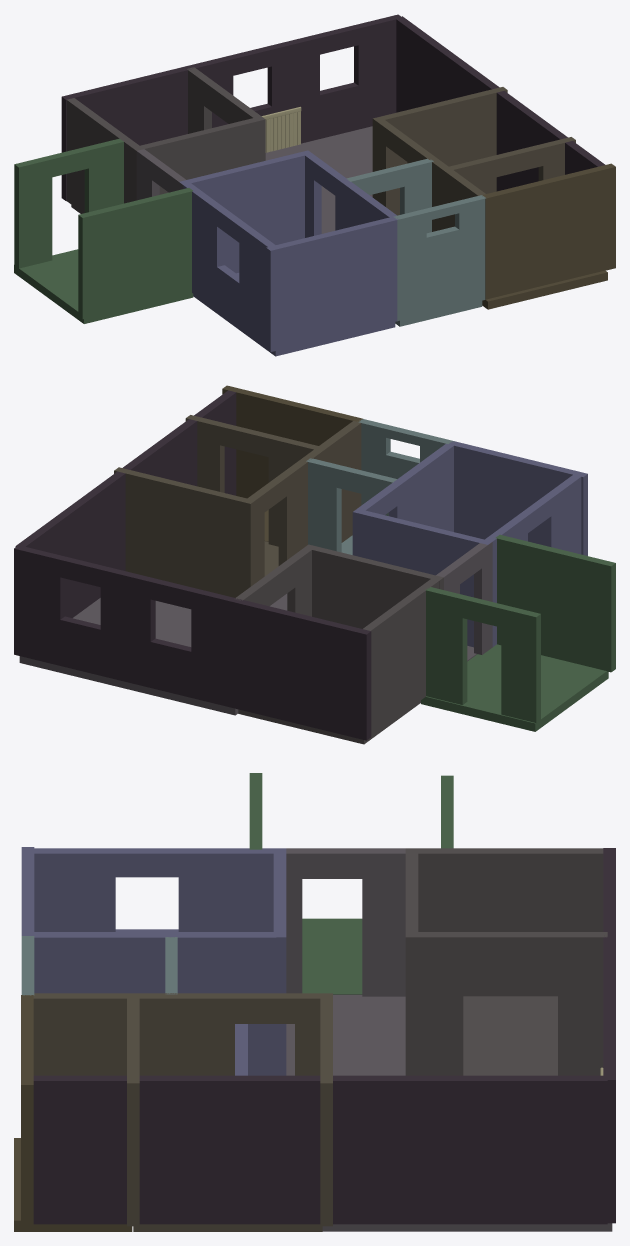
Rendered from casita.fbx.
3 views of the same model, one above another, from view 1: azimuth 30°, elevation 25°; view 2: azimuth 150°, elevation 25°; view 3: azimuth 270°, elevation 25° (orthographic). The views are drawn at different scales.
Parts seen in each view (by area): view 1: polySurface27, pCube41, pCube42, pCube40, pCube25, polySurface28, polySurface29, polySurface30, pCube12, pCube20, pCube15, polySurface2 (+11 smaller); view 2: polySurface27, pCube20, pCube40, pCube25, polySurface30, pCube41, pCube2, pCube15, polySurface4, pCube39, pCube12, pCube42 (+9 smaller); view 3: pCube25, polySurface4, polySurface29, pCube2, polySurface1, polySurface2, polySurface26, pCube6, pCube1, pCube39, polySurface27, pCube15 (+12 smaller).
Boxes of the visible parts, x1=… form: polySurface27: x1=61, y1=14, x2=402, y2=200; pCube41: x1=266, y1=216, x2=398, y2=352; pCube42: x1=482, y1=163, x2=615, y2=299; pCube40: x1=78, y1=188, x2=192, y2=319; pCube25: x1=396, y1=16, x2=605, y2=191; polySurface28: x1=393, y1=195, x2=485, y2=321; polySurface29: x1=183, y1=183, x2=275, y2=346; polySurface30: x1=14, y1=138, x2=123, y2=268; pCube12: x1=179, y1=150, x2=311, y2=273; pCube20: x1=372, y1=87, x2=507, y2=215; pCube15: x1=132, y1=116, x2=265, y2=201; polySurface2: x1=305, y1=153, x2=396, y2=237; polySurface27: x1=14, y1=545, x2=371, y2=740; pCube20: x1=114, y1=467, x2=255, y2=597; pCube40: x1=495, y1=534, x2=615, y2=672; pCube25: x1=15, y1=390, x2=236, y2=618; polySurface30: x1=425, y1=587, x2=540, y2=723; pCube41: x1=448, y1=441, x2=587, y2=555; pCube2: x1=363, y1=579, x2=438, y2=736; pCube15: x1=304, y1=544, x2=443, y2=628; polySurface4: x1=247, y1=421, x2=361, y2=582; pCube39: x1=421, y1=644, x2=608, y2=731; pCube12: x1=352, y1=508, x2=492, y2=647; pCube42: x1=222, y1=385, x2=362, y2=498; pCube25: x1=33, y1=1075, x2=607, y2=1224; polySurface4: x1=33, y1=993, x2=320, y2=1075; polySurface29: x1=34, y1=848, x2=273, y2=993; pCube2: x1=418, y1=848, x2=603, y2=996; polySurface1: x1=418, y1=932, x2=607, y2=1075; polySurface2: x1=34, y1=932, x2=276, y2=1075; polySurface26: x1=286, y1=848, x2=405, y2=996; pCube6: x1=286, y1=994, x2=612, y2=1231; pCube1: x1=463, y1=996, x2=557, y2=1075; pCube39: x1=302, y1=918, x2=362, y2=994; polySurface27: x1=603, y1=848, x2=615, y2=1223; pCube15: x1=405, y1=848, x2=418, y2=1075.
Size of the model in its own units: 11.68 by 2.69 by 9.53.
